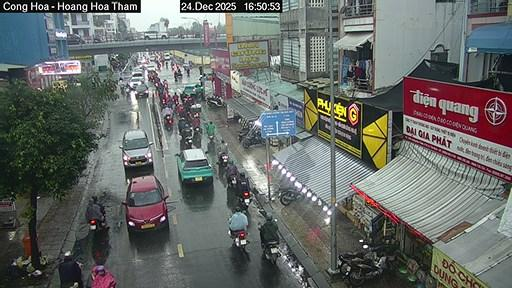motorbike: (336, 238, 381, 274), (348, 256, 386, 286), (90, 265, 115, 287), (278, 188, 301, 205), (227, 230, 245, 251), (262, 242, 278, 262), (243, 133, 265, 147), (236, 190, 250, 208), (205, 95, 224, 108), (89, 219, 105, 232), (236, 127, 249, 142), (163, 116, 172, 130), (227, 174, 236, 188), (218, 153, 227, 166), (184, 136, 192, 148), (194, 126, 199, 136), (208, 134, 213, 142)
